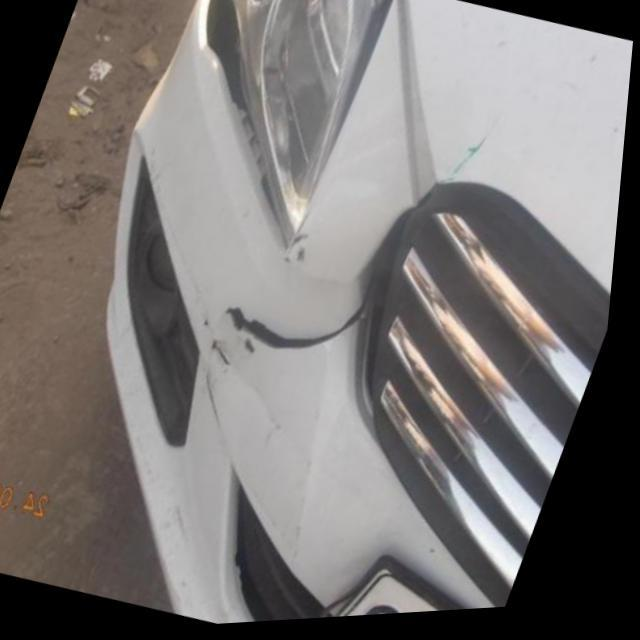crack: (201, 0, 297, 266), (206, 299, 380, 368)
